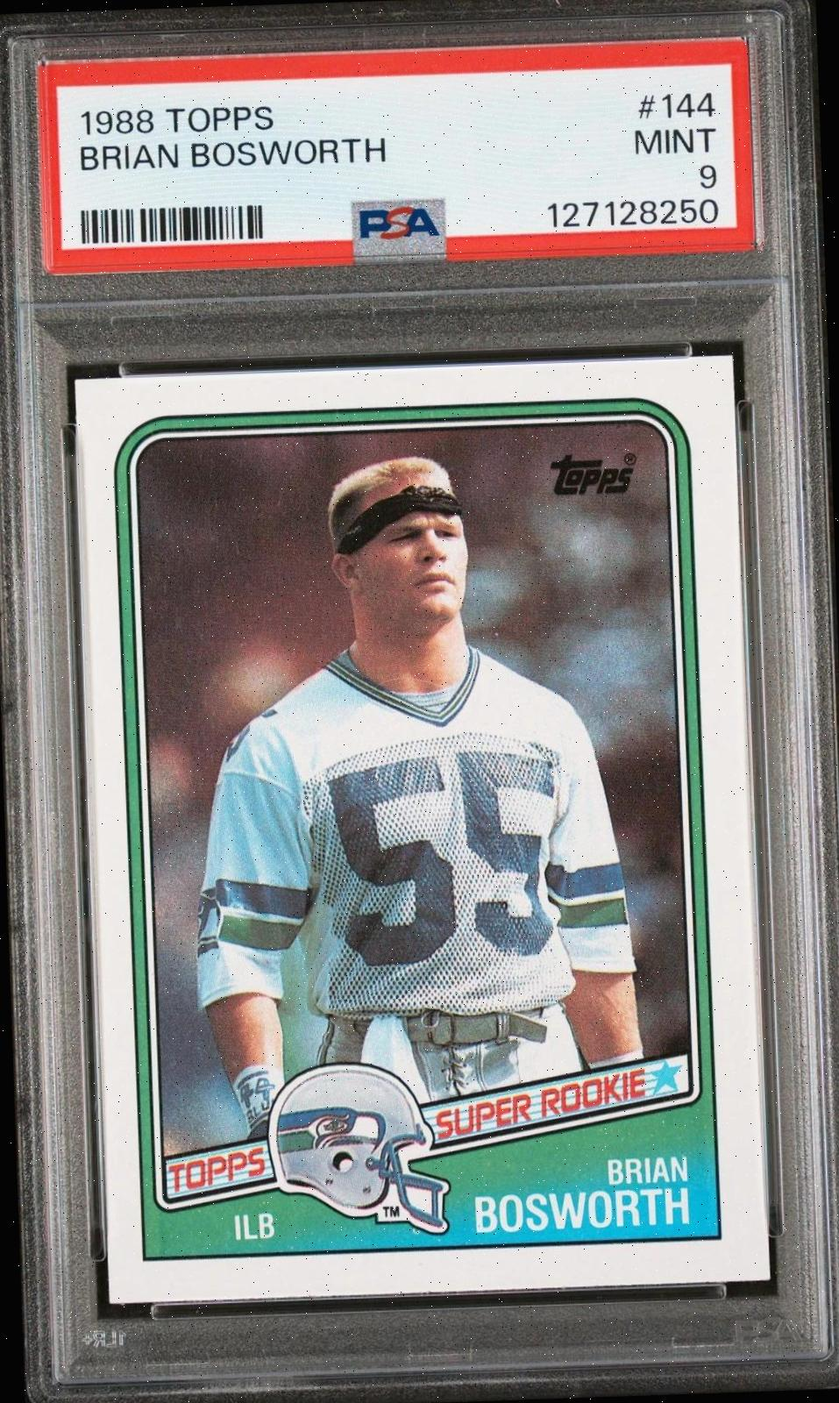card-2UtV: (73, 354, 770, 1306)
